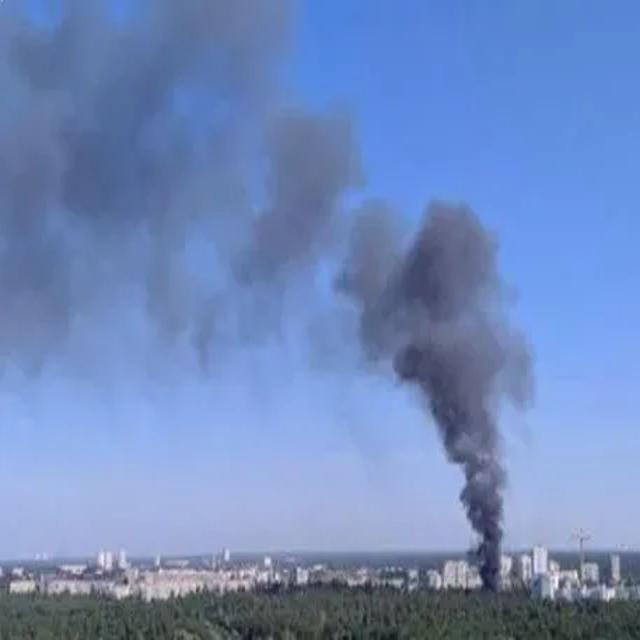Smoke: (393, 199, 512, 584)
